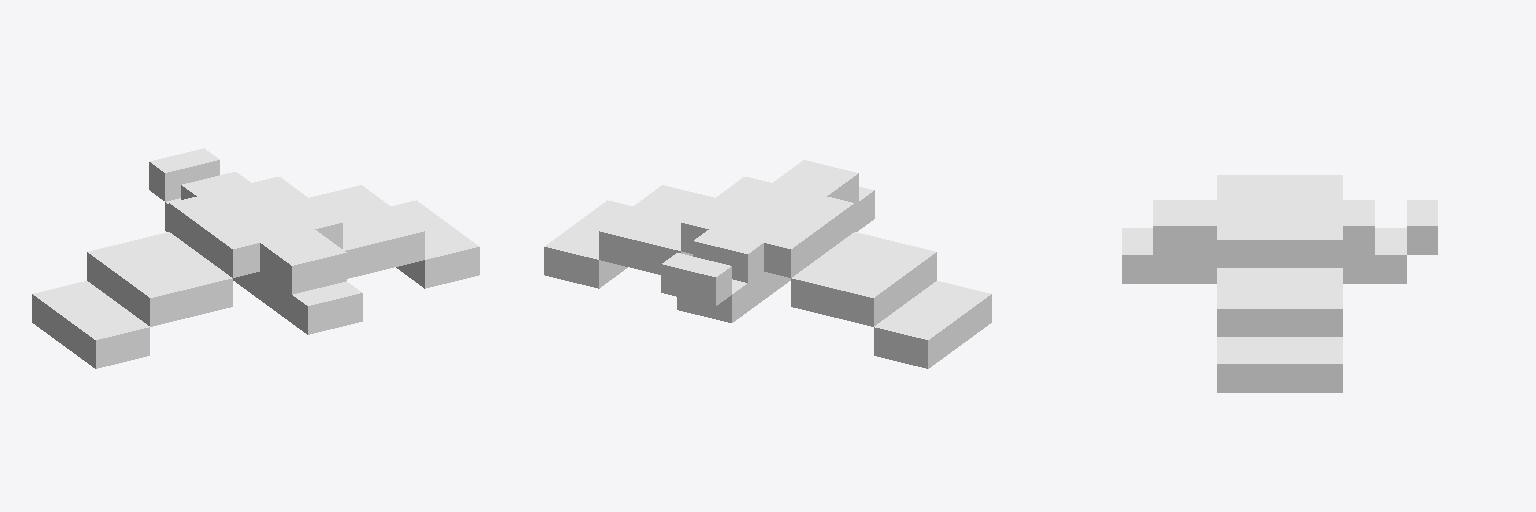
Rendered from bird1Fr2.obj.
3 renders of one model, left to right at view 1: azimuth 30°, elevation 25°; view 2: azimuth 150°, elevation 25°; view 3: azimuth 270°, elevation 25°, orthographic.
Visible parts, largest first — view 1: object 1; view 2: object 1; view 3: object 1.
Part boxes in pixels (x1,y1,x2,y2): object 1: (32, 148, 479, 368); object 1: (544, 160, 991, 368); object 1: (1122, 175, 1437, 392).
Bounding box in the file's own units: 1.4 × 0.3 × 1.